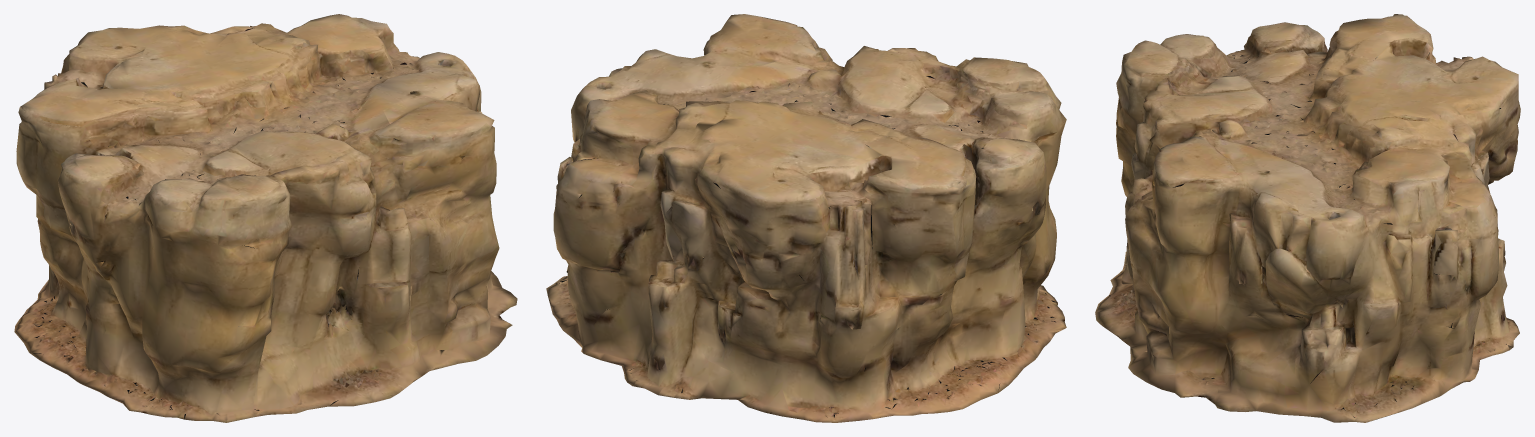
Rendered from mesa_cliff.glb.
3 views of the same model, side by side, from view 1: azimuth 30°, elevation 25°; view 2: azimuth 150°, elevation 25°; view 3: azimuth 270°, elevation 25° (orthographic). The views are drawn at different scales.
Parts seen in each view (by area): view 1: mesa_cliff_00; view 2: mesa_cliff_00; view 3: mesa_cliff_00.
Part boxes in pixels (x1,y1,x2,y2): mesa_cliff_00: (14, 14, 517, 422); mesa_cliff_00: (546, 14, 1066, 422); mesa_cliff_00: (1095, 14, 1520, 422).
Size of the model in its own units: 1.92 by 0.9495 by 1.68.
1 material, 1 textured.
